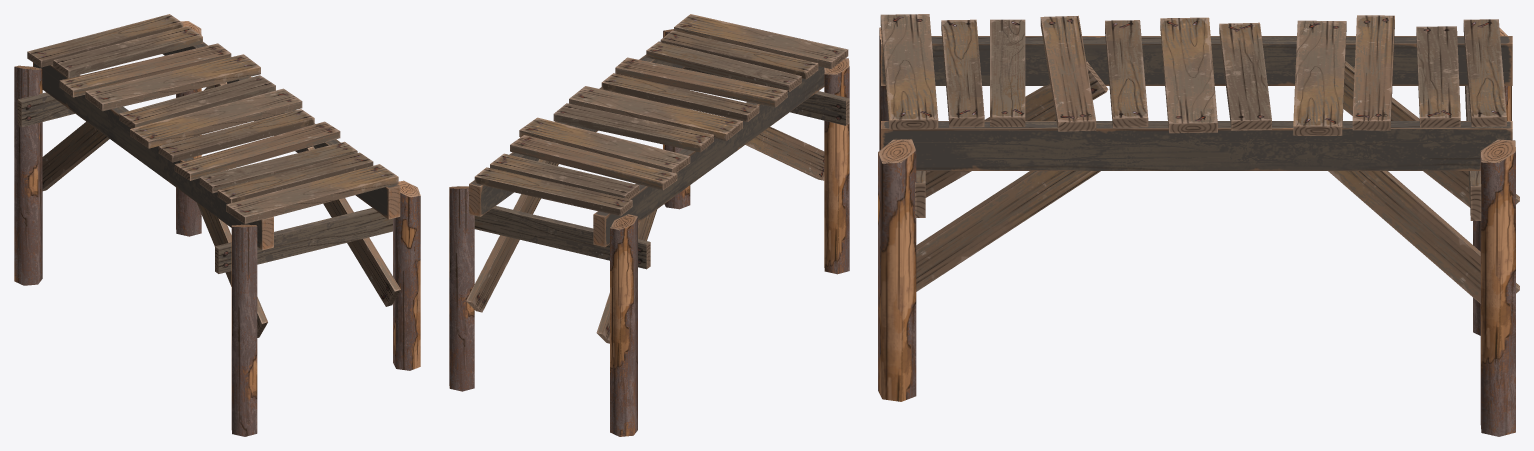
The model's file is fenceWalk_bridge_A.fbx.
The picture shows the model from 3 angles, left to right: view 1: azimuth 30°, elevation 25°; view 2: azimuth 150°, elevation 25°; view 3: azimuth 270°, elevation 25°; orthographic projection. The views are drawn at different scales.
Parts seen in each view (by area): view 1: fenceWalk_bridge_A; view 2: fenceWalk_bridge_A; view 3: fenceWalk_bridge_A.
Boxes of the visible parts, box(x1,y1,x2,y2) form: fenceWalk_bridge_A: box(14, 14, 420, 436); fenceWalk_bridge_A: box(449, 14, 849, 436); fenceWalk_bridge_A: box(878, 14, 1519, 436).
Bounding box in the file's own units: 185 × 206 × 384.
